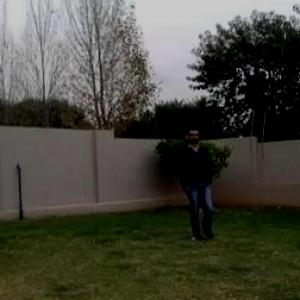follow: (183, 131, 212, 242)
